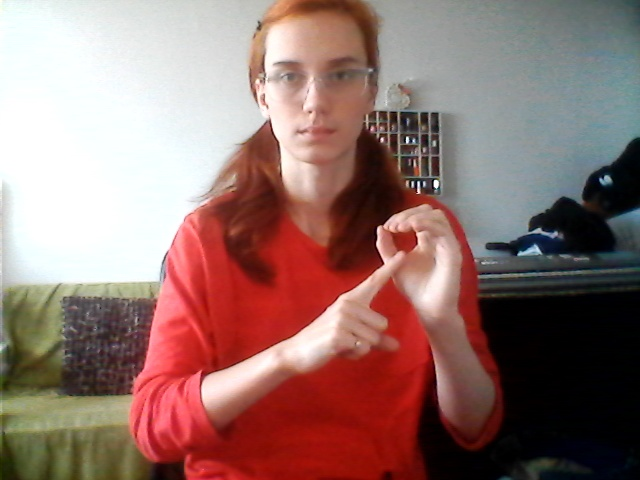q: (313, 198, 479, 374)
